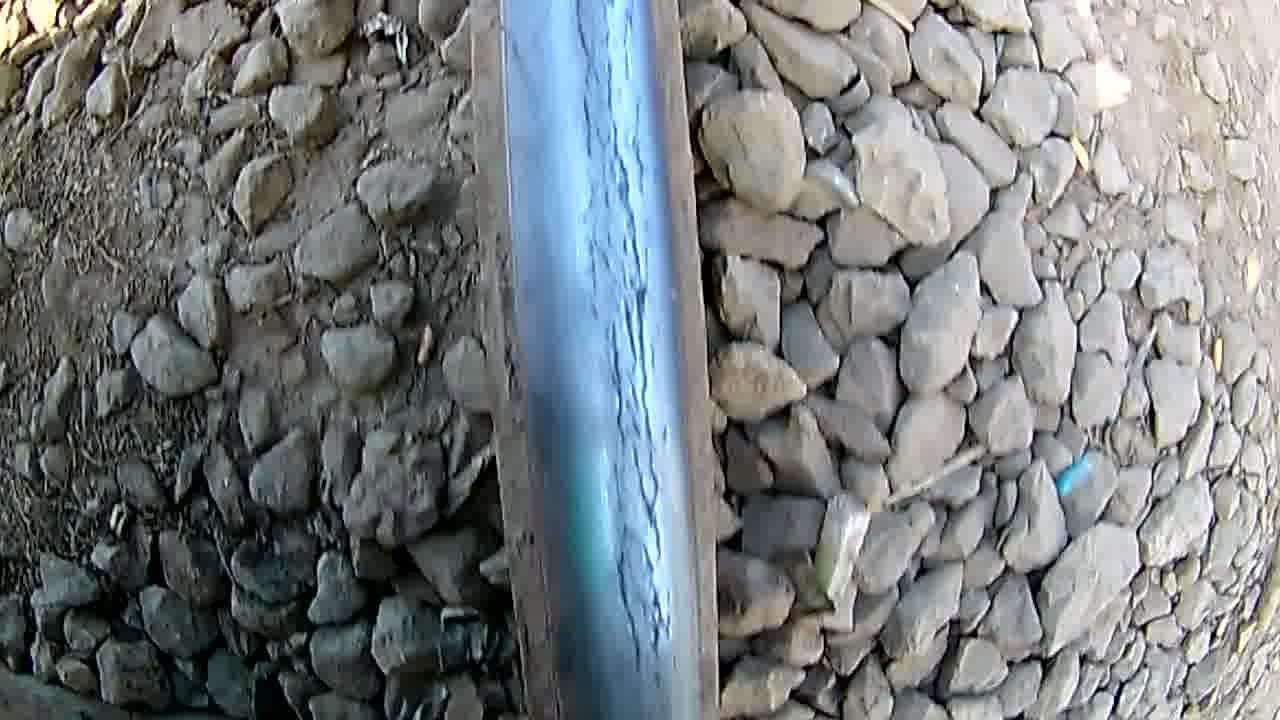crack: (580, 0, 670, 702)
